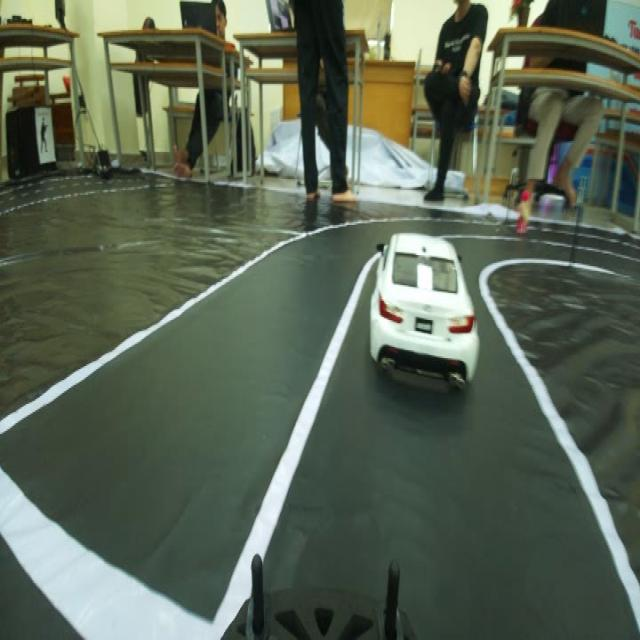car: (372, 198, 478, 401)
